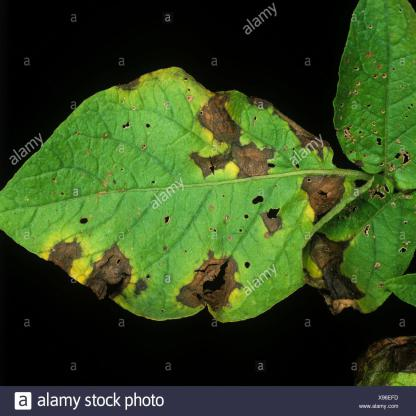potato leaf early blight: (6, 57, 358, 340), (311, 188, 412, 311)
